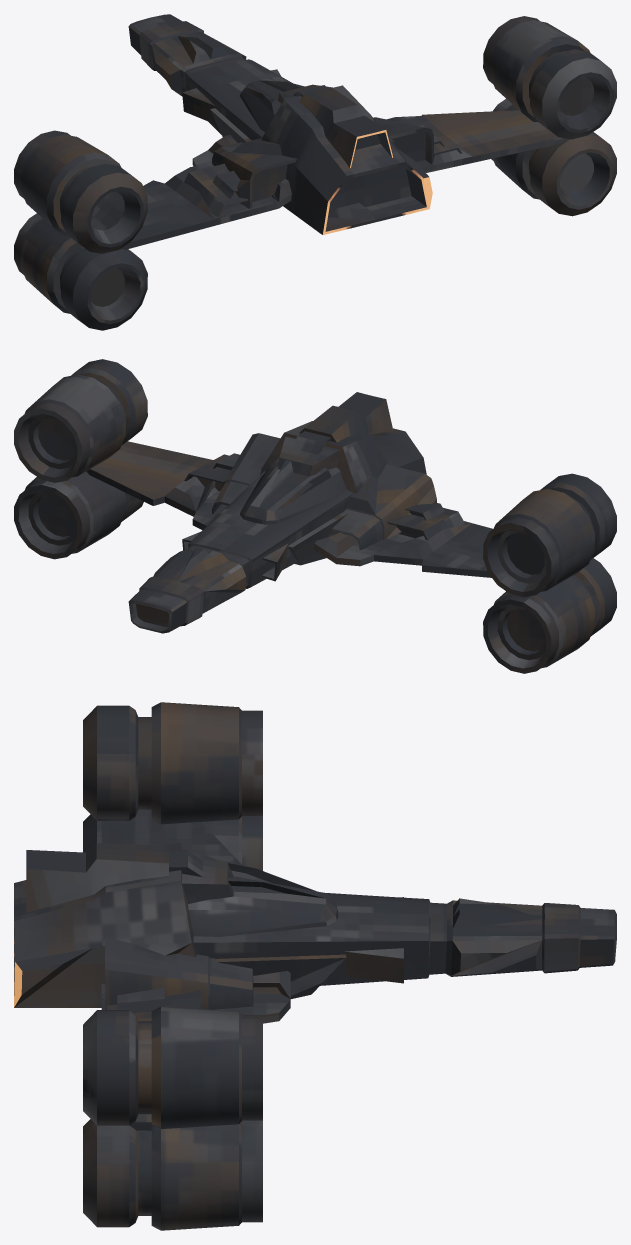
The model's file is raider.glb.
3 views of the same model, one above another, from view 1: azimuth 30°, elevation 25°; view 2: azimuth 150°, elevation 25°; view 3: azimuth 270°, elevation 25° (orthographic). The views are drawn at different scales.
Visible parts, largest first — view 1: Ship; view 2: Ship; view 3: Ship.
Part boxes in pixels (box(x1,y1,x2,y2)): Ship: box(14, 14, 616, 330); Ship: box(14, 359, 616, 673); Ship: box(14, 702, 616, 1230).
Bounding box in the file's own units: 12.57 × 3.65 × 9.
1 material, 1 textured.
